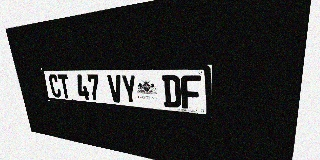4: (75, 74, 90, 100)
7: (86, 74, 102, 101)
C: (48, 74, 62, 98)
D: (162, 75, 181, 108)
F: (181, 75, 201, 110)
T: (57, 74, 71, 99)
V: (107, 75, 124, 103)
Y: (121, 75, 138, 104)
